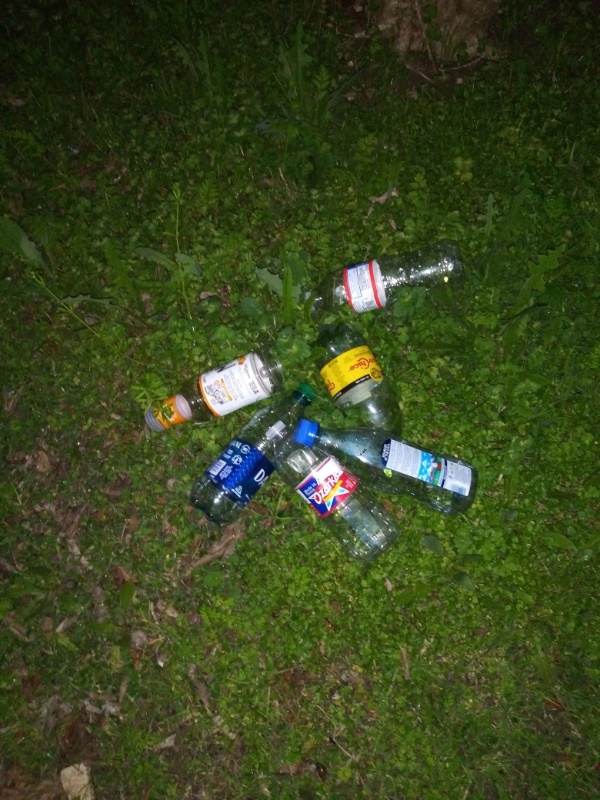bottle: (296, 416, 482, 525), (266, 419, 402, 566), (187, 382, 315, 530), (303, 330, 415, 477), (136, 340, 289, 441), (300, 238, 469, 318)
